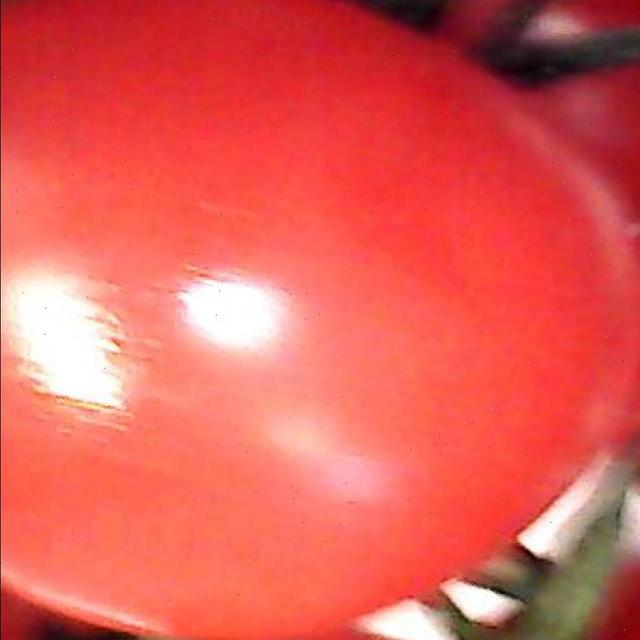Healthy Fruit: (0, 0, 407, 427)
